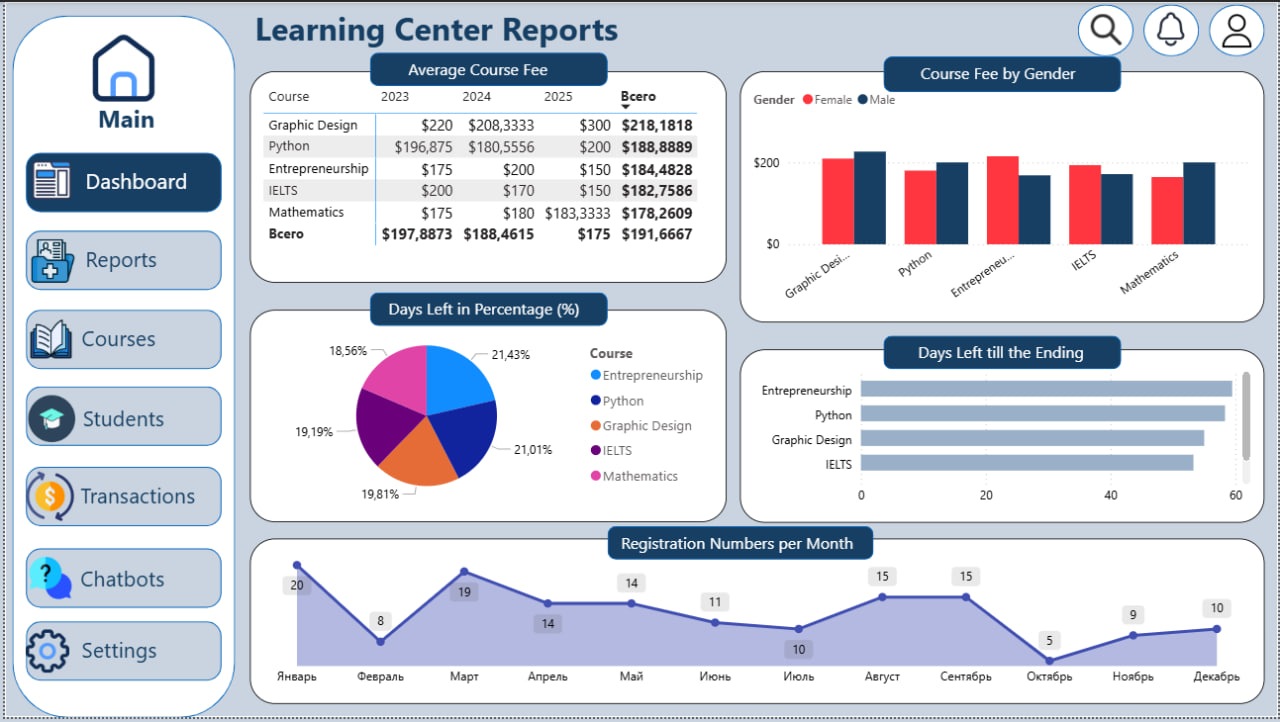

This screenshot's page, from the dashboard's own definition file:
{"tool":"powerbi","page":{"name":"Страница 1","canvas":[1280,720],"ordinal":0},"visuals":[{"type":"pivotTable","fields":{"Rows":["Learning_Center.Course"],"Columns":["Learning_Center.Registration_Date.Изменение.Иерархия дат.Год"],"Values":["Learning_Center.O'rtacha_to'lov"]},"box":[246.3,69.7,478.9,212.7],"z":0},{"type":"areaChart","fields":{"Category":["Learning_Center.Registration_Date.Изменение.Иерархия дат.Месяц"],"Y":["Learning_Center.Talabalar_soni"]},"box":[246.3,539.9,1020,166.7],"z":1000},{"type":"pieChart","fields":{"Category":["Learning_Center.Course"],"Y":["Avg(Learning_Center.Kurs_davomiyligi)"]},"box":[246.3,309.7,478.9,214],"z":2000},{"type":"clusteredColumnChart","fields":{"Category":["Learning_Center.Course"],"Y":["Learning_Center.O'rtacha_to'lov"],"Series":["Learning_Center.Gender"]},"box":[738.9,69.7,527.4,252.5],"z":3000},{"type":"barChart","fields":{"Category":["Learning_Center.Course"],"Y":["Avg(Learning_Center.Kurs_davomiyligi)"]},"box":[738.9,349.6,527.4,174.2],"z":4000},{"type":"shape","box":[1144.4,2.5,56,52.2],"z":5000},{"type":"shape","box":[1078.5,2.5,56,52.2],"z":6000},{"type":"shape","box":[1210.4,2.5,56,52.2],"z":7000},{"type":"image","box":[1083.5,7.5,47.3,41.1],"z":8000},{"type":"image","box":[1144.4,3.7,56,47.3],"z":9000},{"type":"shape","box":[7.5,13.7,223.9,706.6],"z":10000},{"type":"image","box":[1212.9,7.5,51,43.5],"z":11000},{"type":"image","box":[72.1,13.7,94.5,103.2],"z":12000},{"type":"shape","box":[21.1,151.8,196.5,59.7],"z":13000},{"type":"shape","box":[21.1,230.1,196.5,59.7],"z":14000},{"type":"image","box":[21.1,151.8,52.2,54.7],"z":15000},{"type":"shape","box":[21.1,309.7,196.5,59.7],"z":16000},{"type":"shape","box":[21.1,386.9,196.5,59.7],"z":17000},{"type":"shape","box":[21.1,467.7,196.5,59.7],"z":18000},{"type":"shape","box":[21.1,549.8,196.5,59.7],"z":19000},{"type":"image","box":[19.9,313.5,53.5,51],"z":20000},{"type":"image","box":[18.7,232.6,58.5,56],"z":21000},{"type":"image","box":[17.4,553.6,57.2,52.2],"z":22000},{"type":"image","box":[14.9,467.7,61,59.7],"z":23000},{"type":"image","box":[18.7,386.9,57.2,64.7],"z":24000},{"type":"shape","box":[21.1,623.2,196.5,59.7],"z":25000},{"type":"image","box":[11.2,620.7,63.4,64.7],"z":26000},{"type":"textbox","box":[75.9,160.5,128.1,46],"z":27000},{"type":"textbox","box":[75.9,238.8,104.5,43.5],"z":28000},{"type":"textbox","box":[72.1,318.5,104.5,42.3],"z":29000},{"type":"textbox","box":[73.4,399.3,104.5,47.3],"z":30000},{"type":"textbox","box":[70.9,476.4,146.8,47.3],"z":31000},{"type":"textbox","box":[70.9,559.8,118.2,39.8],"z":32000},{"type":"textbox","box":[72.1,631.9,104.5,43.5],"z":33000},{"type":"textbox","box":[88.3,95.8,89.6,43.5],"z":34000},{"type":"textbox","box":[246.3,0,452.8,53.5],"z":35000},{"type":"shape","box":[367,51,238.8,33.6],"z":36000},{"type":"shape","box":[883.2,54.7,238.8,36.1],"z":37000},{"type":"shape","box":[367,292.3,238.8,33.6],"z":38000},{"type":"shape","box":[883.2,335.9,238.8,33.6],"z":39000},{"type":"shape","box":[605.8,527.4,267.5,33.6],"z":40000},{"type":"textbox","box":[400.6,51,171.7,39.8],"z":41000},{"type":"textbox","box":[915.6,54.7,191.6,41.1],"z":42000},{"type":"textbox","box":[913.1,335.9,179.1,39.8],"z":43000},{"type":"textbox","box":[614.5,527.4,251.3,39.8],"z":44000},{"type":"textbox","box":[380.7,292.3,225.2,39.8],"z":45000}]}

Visuals, with their boxes in screenshot pixels (x1, y1, x2, y2):
pivotTable - Learning_Center.Course x Learning_Center.Registration_Date.Изменение.Иерархия дат.Год: locate(250, 69, 722, 278)
areaChart - Learning_Center.Registration_Date.Изменение.Иерархия дат.Месяц x Learning_Center.Talabalar_soni: locate(250, 532, 1255, 697)
pieChart - Learning_Center.Course x Avg(Learning_Center.Kurs_davomiyligi): locate(250, 305, 722, 516)
clusteredColumnChart - Learning_Center.Course x Learning_Center.O'rtacha_to'lov: locate(735, 69, 1255, 318)
barChart - Learning_Center.Course x Avg(Learning_Center.Kurs_davomiyligi): locate(735, 345, 1255, 517)
shape: locate(1135, 2, 1190, 54)
shape: locate(1070, 2, 1125, 54)
shape: locate(1200, 2, 1256, 54)
image: locate(1075, 7, 1122, 48)
image: locate(1135, 4, 1190, 50)
shape: locate(14, 14, 235, 710)
image: locate(1203, 7, 1253, 50)
image: locate(78, 14, 171, 115)
shape: locate(27, 150, 221, 209)
shape: locate(27, 227, 221, 286)
image: locate(27, 150, 79, 204)
shape: locate(27, 305, 221, 364)
shape: locate(27, 382, 221, 440)
shape: locate(27, 461, 221, 520)
shape: locate(27, 542, 221, 601)
image: locate(26, 309, 79, 359)
image: locate(25, 229, 83, 285)
image: locate(24, 546, 80, 597)
image: locate(21, 461, 82, 520)
image: locate(25, 382, 82, 445)
shape: locate(27, 615, 221, 673)
image: locate(18, 612, 80, 676)
textbox: locate(82, 158, 208, 204)
textbox: locate(82, 235, 185, 278)
textbox: locate(78, 314, 181, 356)
textbox: locate(79, 394, 182, 440)
textbox: locate(77, 470, 221, 516)
textbox: locate(77, 552, 193, 591)
textbox: locate(78, 623, 181, 666)
textbox: locate(94, 94, 182, 137)
textbox: locate(250, 0, 696, 53)
shape: locate(369, 50, 604, 83)
shape: locate(878, 54, 1113, 90)
shape: locate(369, 288, 604, 321)
shape: locate(878, 331, 1113, 364)
shape: locate(604, 520, 868, 553)
textbox: locate(402, 50, 571, 90)
textbox: locate(910, 54, 1099, 94)
textbox: locate(907, 331, 1084, 371)
textbox: locate(613, 520, 861, 559)
textbox: locate(382, 288, 604, 328)
